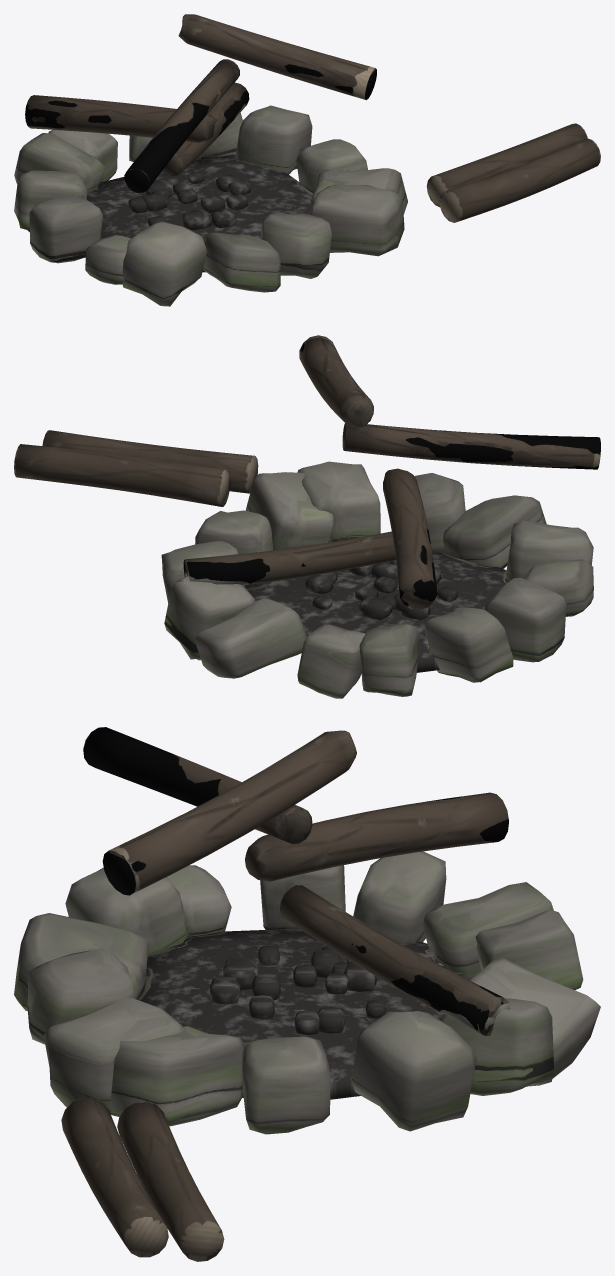
File: SM_Camp_Campfire.fbx
3 renders of one model, top to bottom at view 1: azimuth 30°, elevation 25°; view 2: azimuth 150°, elevation 25°; view 3: azimuth 270°, elevation 25°, orthographic. The views are drawn at different scales.
Parts seen in each view (by area): view 1: SM_Camp_Campfire; view 2: SM_Camp_Campfire; view 3: SM_Camp_Campfire.
Part boxes in pixels (x1=…): SM_Camp_Campfire: x1=14, y1=14, x2=600, y2=306; SM_Camp_Campfire: x1=14, y1=335, x2=600, y2=698; SM_Camp_Campfire: x1=14, y1=727, x2=600, y2=1261.
Bounding box in the file's own units: 174 × 116 × 67.04.
